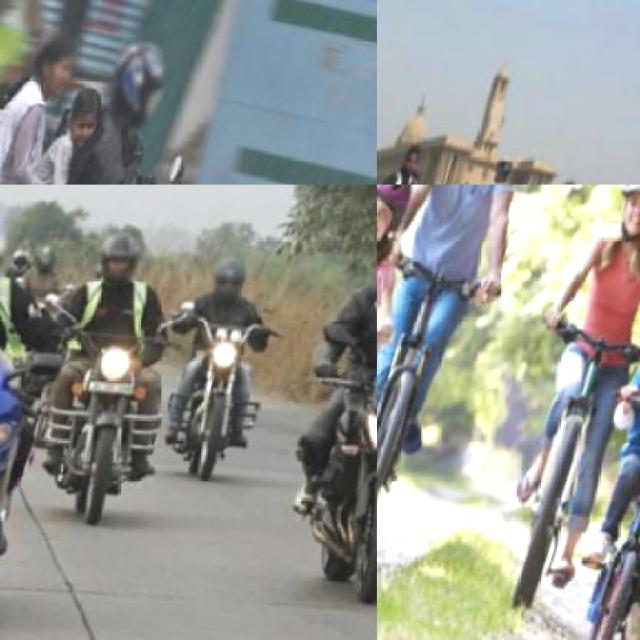With Helmet: (93, 28, 181, 147), (88, 228, 148, 290), (377, 185, 423, 257), (200, 258, 251, 318), (603, 184, 639, 253), (0, 210, 20, 312), (29, 240, 60, 278)
Without Helmet: (26, 28, 83, 98), (60, 85, 109, 146), (394, 139, 424, 184)
